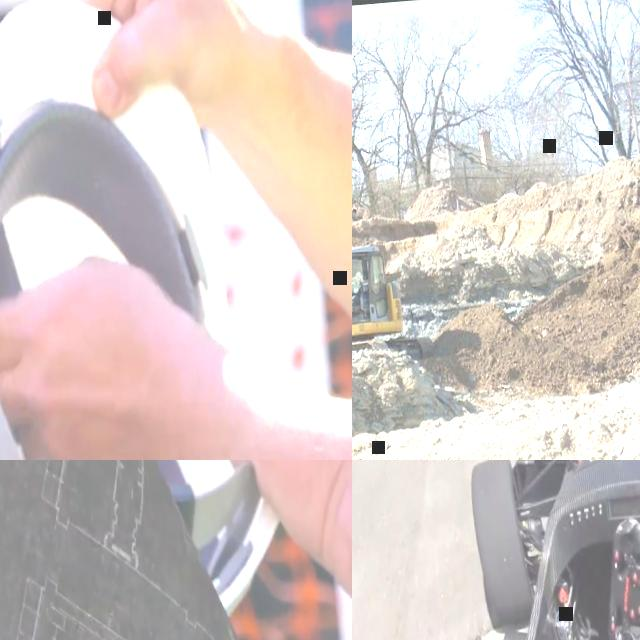helmet: (0, 0, 252, 460), (5, 460, 330, 630)
machinery: (352, 157, 435, 372)
person: (0, 0, 352, 460), (173, 460, 352, 640)
vehicle: (429, 460, 640, 640)
